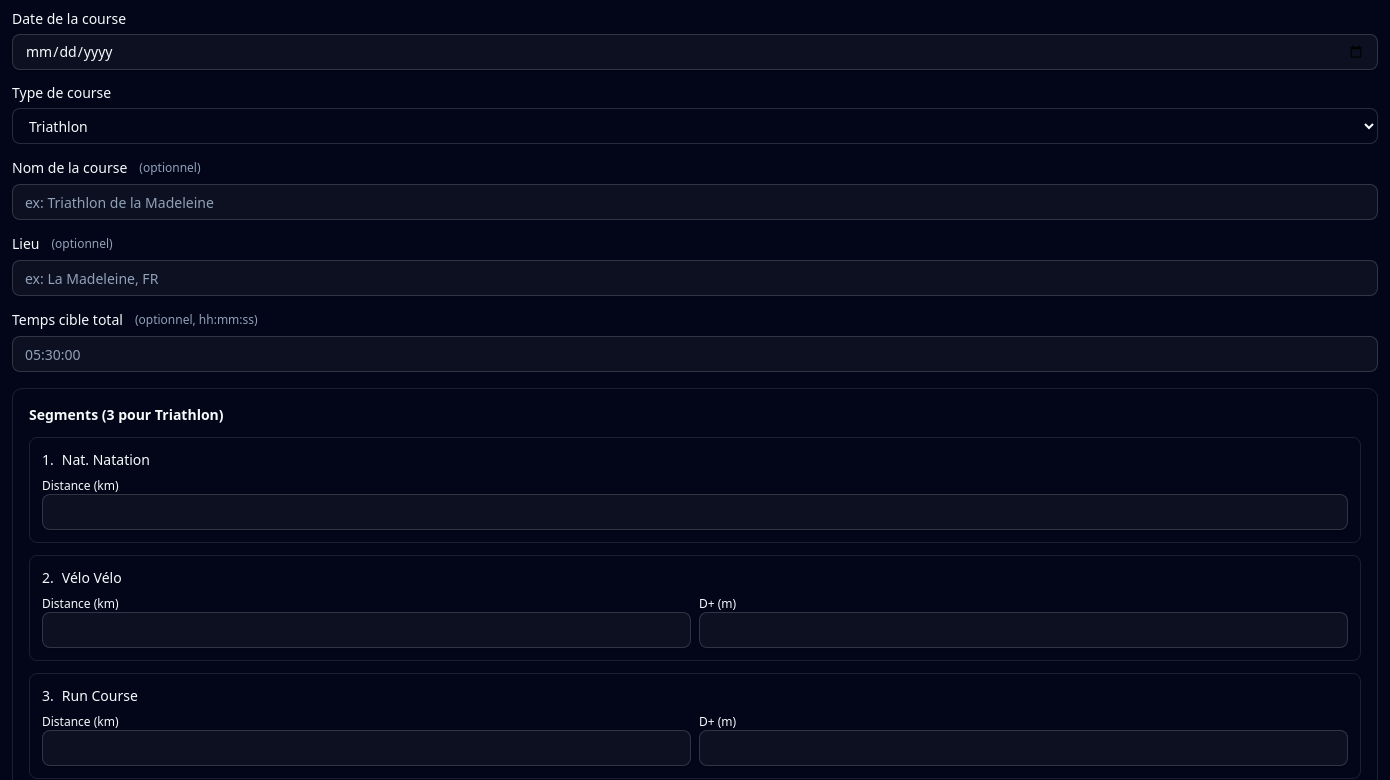
Test: StepRaceForm › changes discipline and resets legs accordingly
Select "Course (route ou trail)" in the dropdown labelled "Type de course" at (695,126), box [12,108,1378,144]
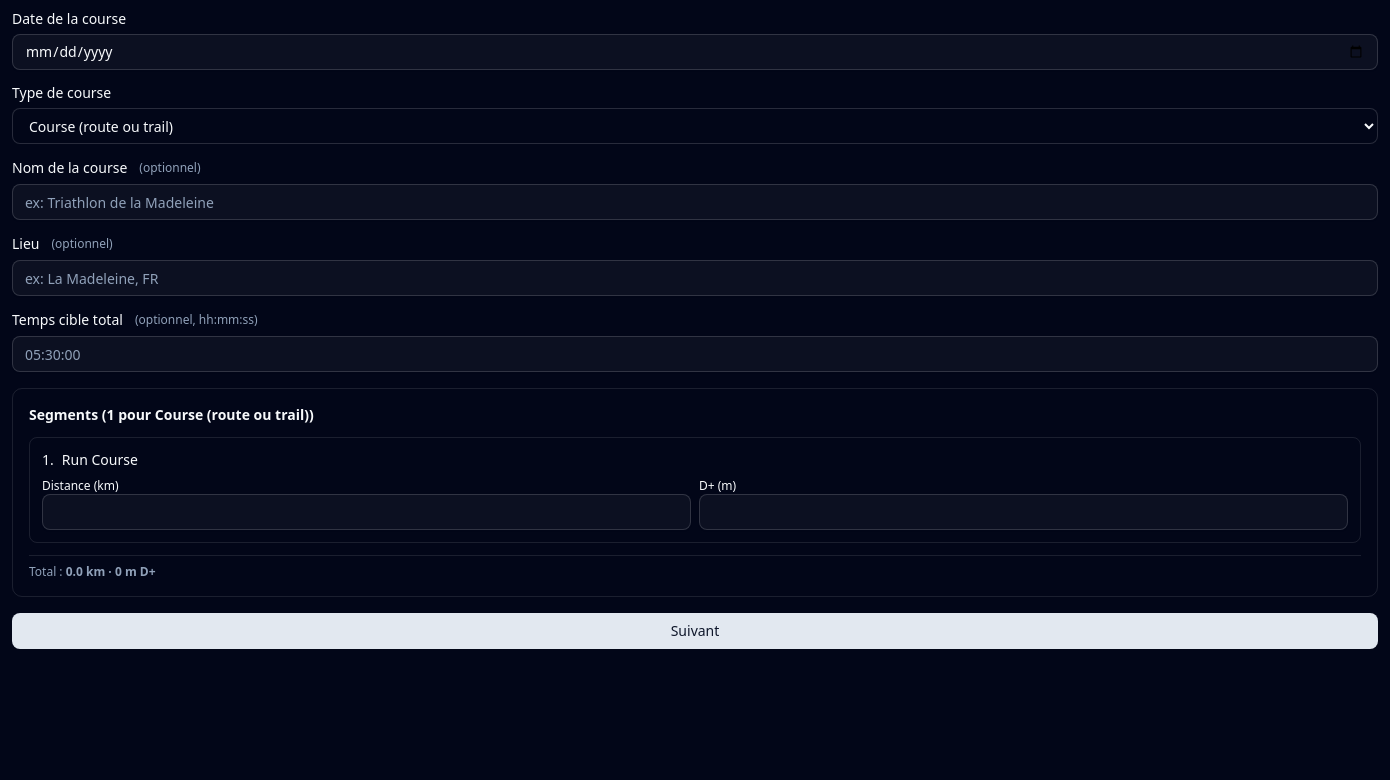
Result: the heading "Segments (1 pour Course (route ou trail))" is shown at [29,405,314,425]
